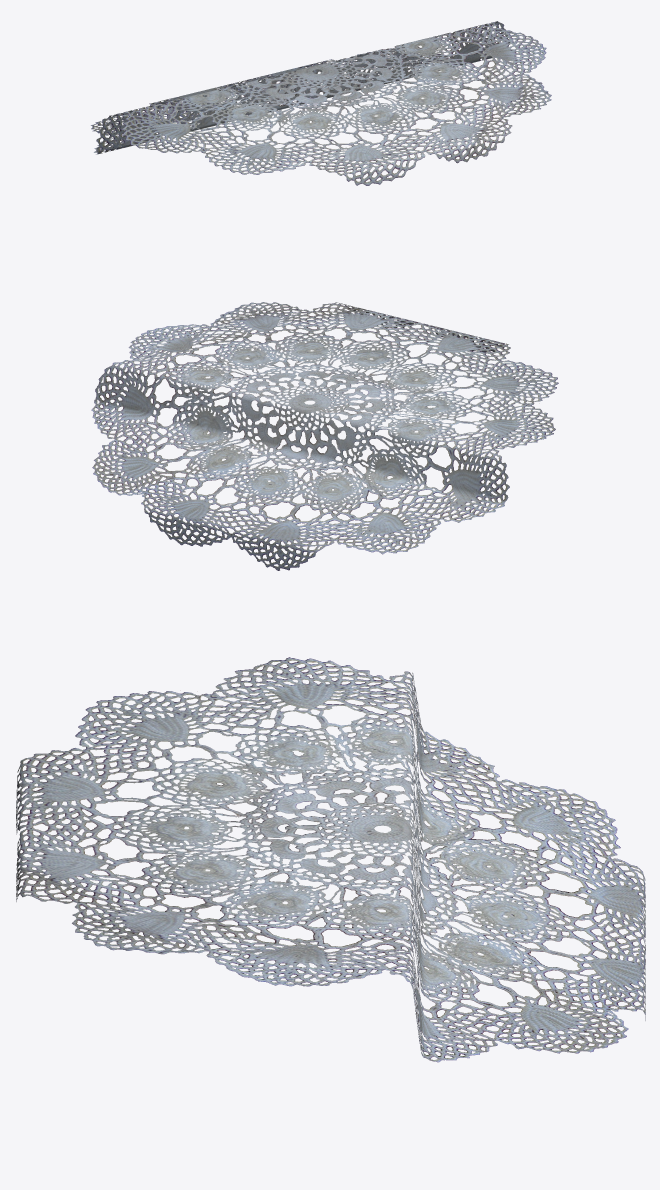
Rendered from Lace.fbx.
3 renders of one model, top to bottom at view 1: azimuth 30°, elevation 25°; view 2: azimuth 150°, elevation 25°; view 3: azimuth 270°, elevation 25°, orthographic. The views are drawn at different scales.
Parts seen in each view (by area): view 1: Lace; view 2: Lace; view 3: Lace.
Boxes of the visible parts, bbox=[...] form: Lace: bbox=[91, 21, 551, 185]; Lace: bbox=[91, 302, 558, 570]; Lace: bbox=[16, 657, 645, 1062].
Size of the model in its own units: 0.5364 by 0.1248 by 0.4095.
Materials: 1 (1 with a texture image).
